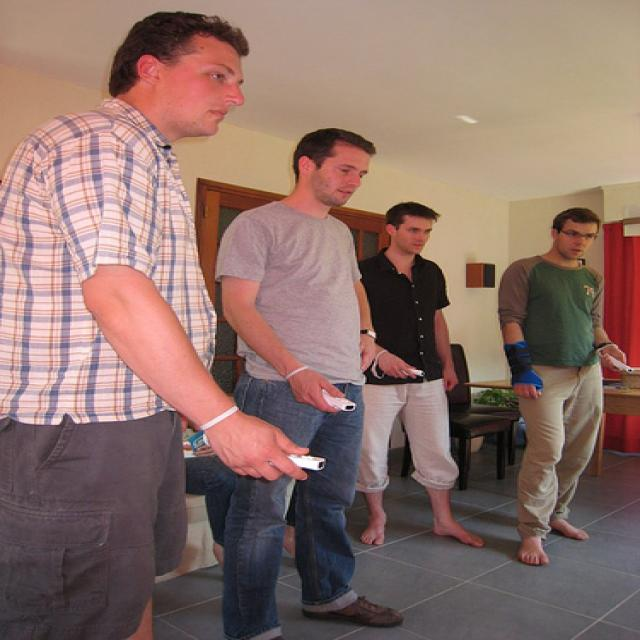chair: (449, 343, 520, 467), (400, 412, 511, 490)
dining table: (467, 377, 640, 478)
